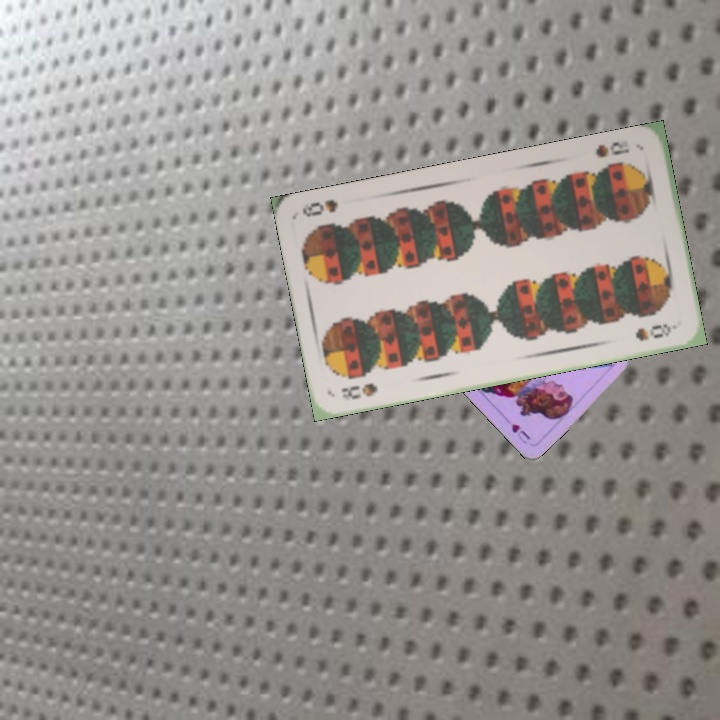S8: (337, 378, 380, 403), (591, 137, 632, 161)
